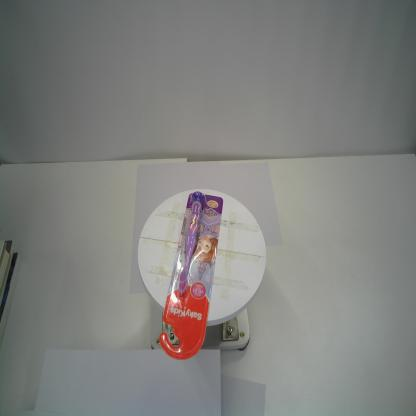Personal Hygiene: (158, 190, 224, 360)
